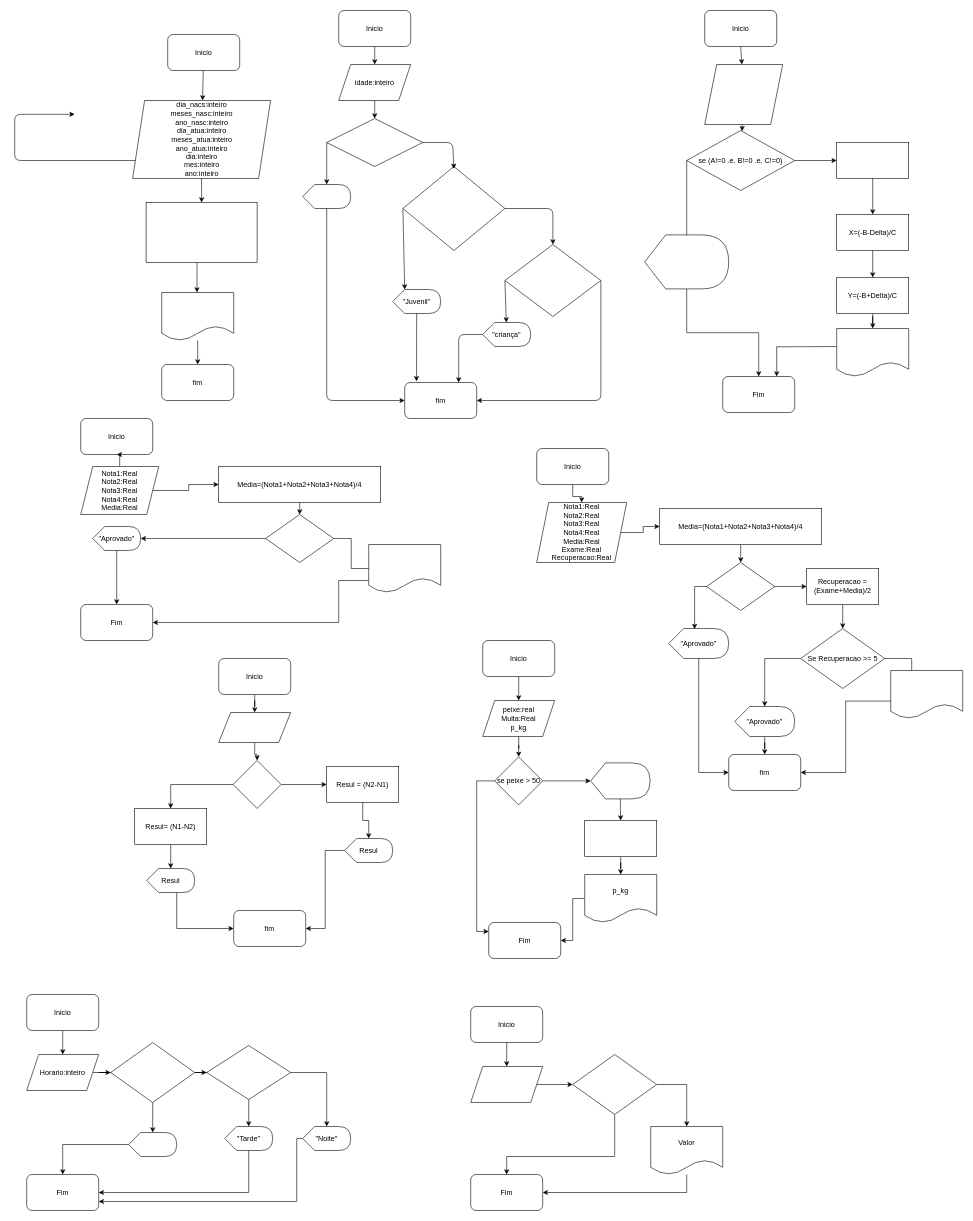
This 973x1221 diagram has some shape labels left out. Each missing label, with the box of its shape:
"adulto": (302, 184, 351, 208)
"Aplicação de Multa": (590, 762, 650, 799)
"Manhã": (128, 1132, 177, 1156)
"Não uma equação do segundo grau": (644, 234, 729, 289)
A: Real B: Real C: Real X:Real Y:Real Delta:Real: (704, 64, 783, 124)
Delta=(B*B)-(4*B)*C: (836, 142, 909, 178)
dia,mes,ano: (161, 292, 234, 340)
dia<-dia_atua - dia_nasc mes<-meses_atua - meses_nasc ano<-ano_atua - ano_nasc: (146, 202, 257, 262)
Media, "Bomba!": (368, 544, 441, 592)
Multa=(50-peixe) p_kg=Multa*4: (584, 820, 657, 856)
N1:Real N2:Real Resul:Real: (218, 712, 291, 742)
Recuperacao, "Reprovado": (890, 670, 963, 718)
se (idade>=18): (326, 118, 423, 166)
se (idade>=5.e.idade<=10): (504, 244, 601, 316)
Se (N1>N2): (232, 760, 281, 808)
se horario >= 13 .e. horario > 21: (206, 1045, 291, 1100)
se horario >= 5 .e. horario < 13: (110, 1042, 195, 1102)
Se Media >= 5: (265, 514, 334, 562)
Se Media >= 7: (706, 562, 775, 610)
se Valor > 3: (572, 1054, 657, 1114)
se(idade>=10 .e. idade<=17): (402, 166, 505, 250)
Valor: Real: (470, 1066, 543, 1102)
X,Y: (836, 328, 909, 376)
